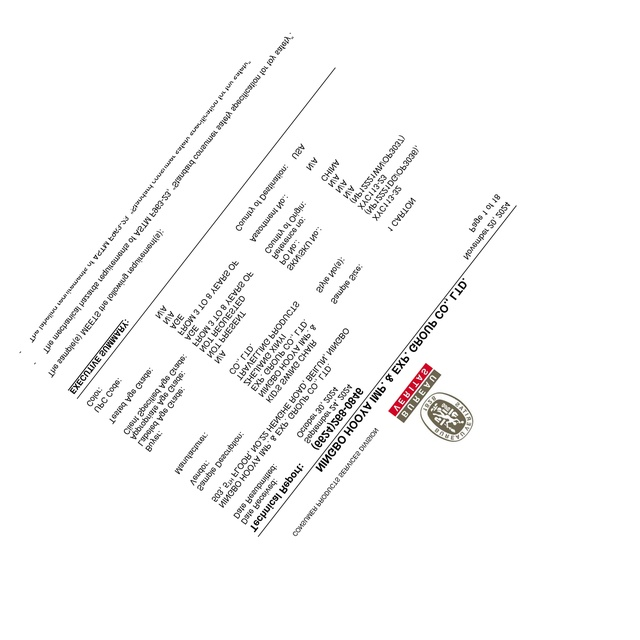bureau_veritas: (388, 360, 475, 442)
